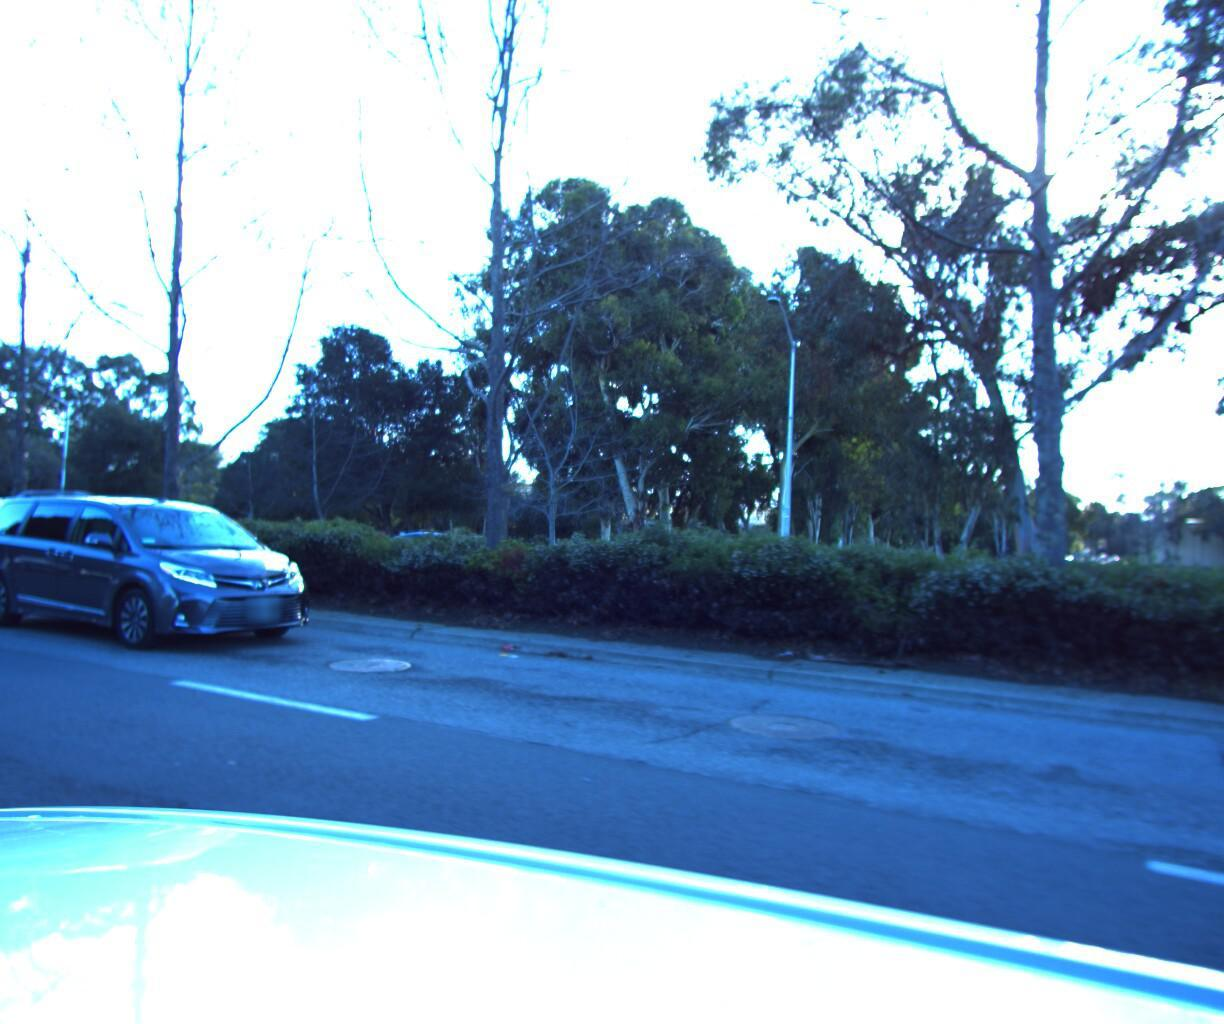bus: (0, 490, 55, 546)
car: (0, 478, 341, 658), (341, 521, 505, 585)
